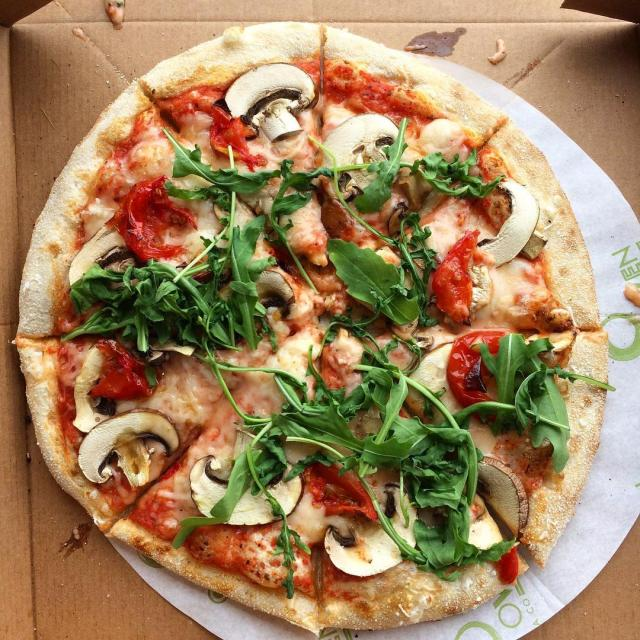pizza: (13, 22, 612, 640), (192, 417, 306, 529), (71, 407, 182, 502), (323, 506, 423, 582), (215, 57, 304, 141), (404, 331, 477, 423), (462, 452, 534, 545), (320, 111, 398, 191), (70, 217, 155, 290), (486, 172, 544, 264), (73, 343, 121, 432), (230, 263, 290, 309), (246, 271, 293, 308)
